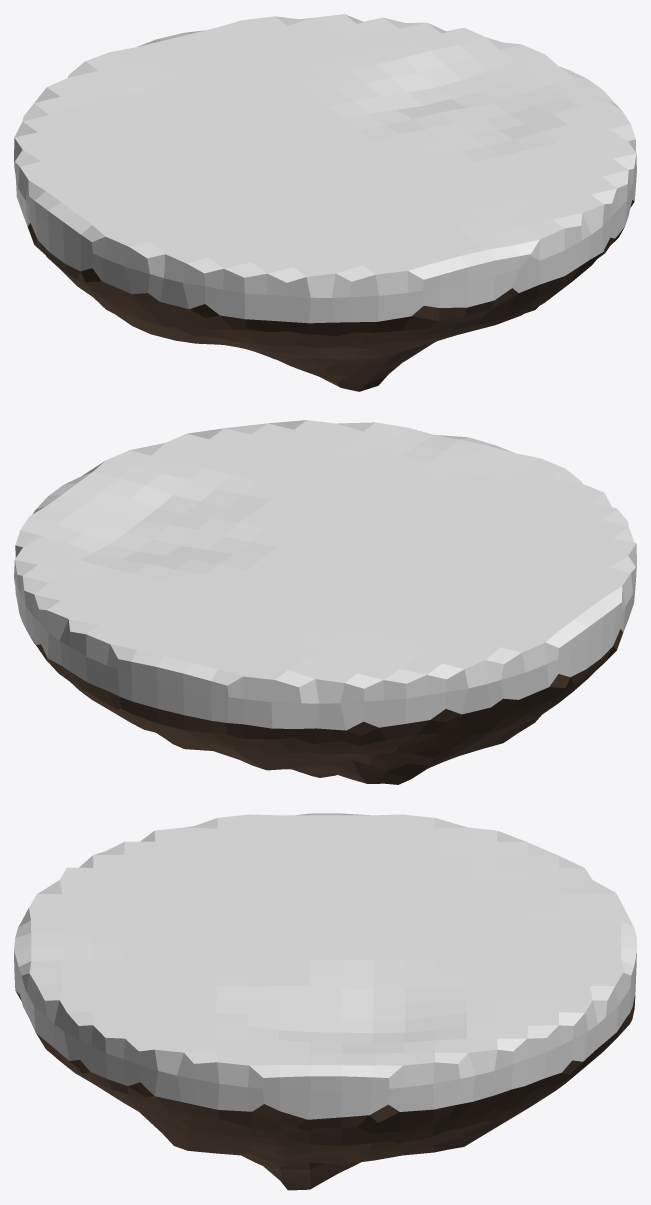
File: IslandTest.gltf
3 views of the same model, one above another, from view 1: azimuth 30°, elevation 25°; view 2: azimuth 150°, elevation 25°; view 3: azimuth 270°, elevation 25° (orthographic).
Parts seen in each view (by area): view 1: Island; view 2: Island; view 3: Island.
Boxes of the visible parts, bbox=[...] form: Island: bbox=[14, 14, 636, 391]; Island: bbox=[14, 420, 636, 784]; Island: bbox=[14, 813, 636, 1190].
Size of the model in its own units: 24.44 by 10.25 by 24.49.
